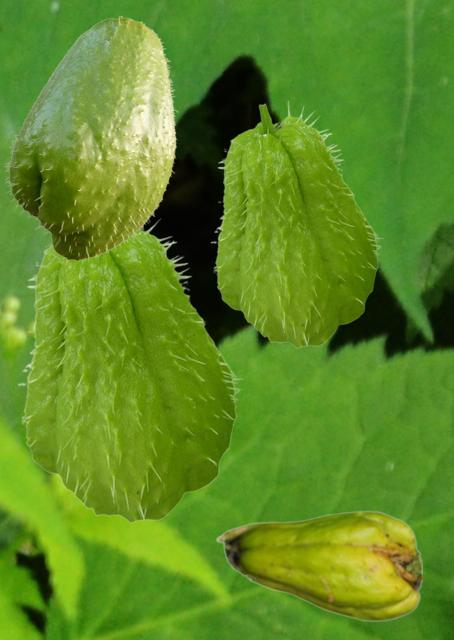sayote: (17, 212, 242, 522), (3, 16, 177, 263), (210, 100, 382, 347), (215, 510, 421, 621)
